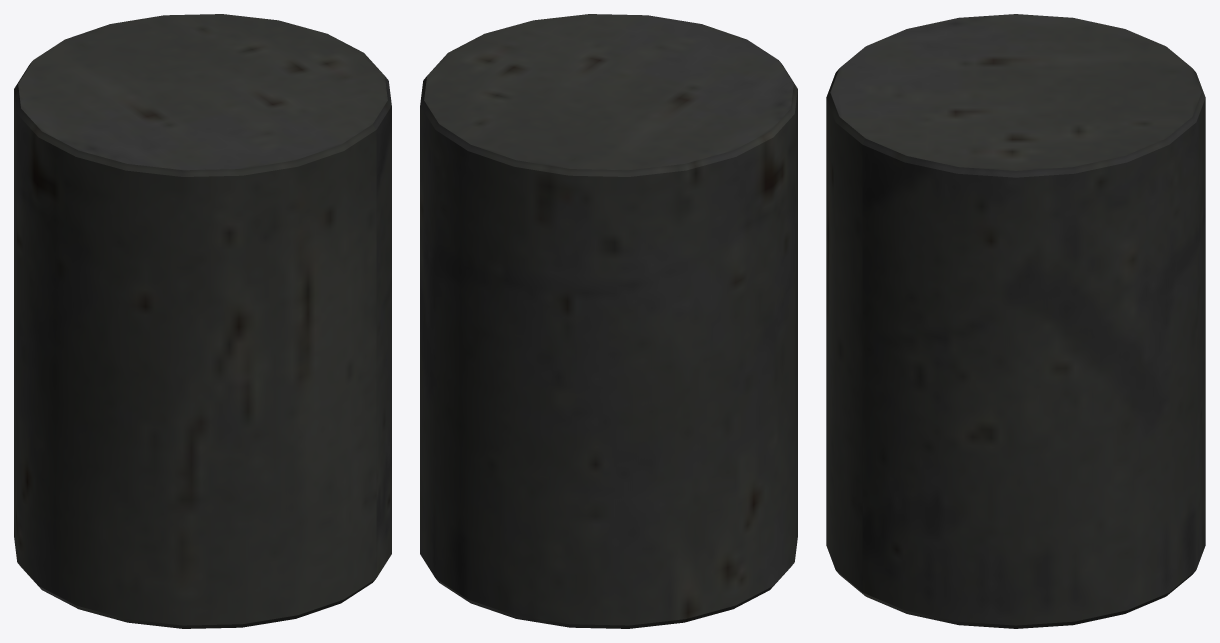
The model's file is EngineRoomTanks.fbx.
The picture shows the model from 3 angles, left to right: view 1: azimuth 30°, elevation 25°; view 2: azimuth 150°, elevation 25°; view 3: azimuth 270°, elevation 25°; orthographic projection.
Parts seen in each view (by area): view 1: Engine_room_Tanks; view 2: Engine_room_Tanks; view 3: Engine_room_Tanks.
Part boxes in pixels (box(x1,y1,x2,y2)): Engine_room_Tanks: box(14, 14, 391, 628); Engine_room_Tanks: box(420, 14, 797, 628); Engine_room_Tanks: box(826, 14, 1205, 628).
Size of the model in its own units: 135 by 180 by 135.
